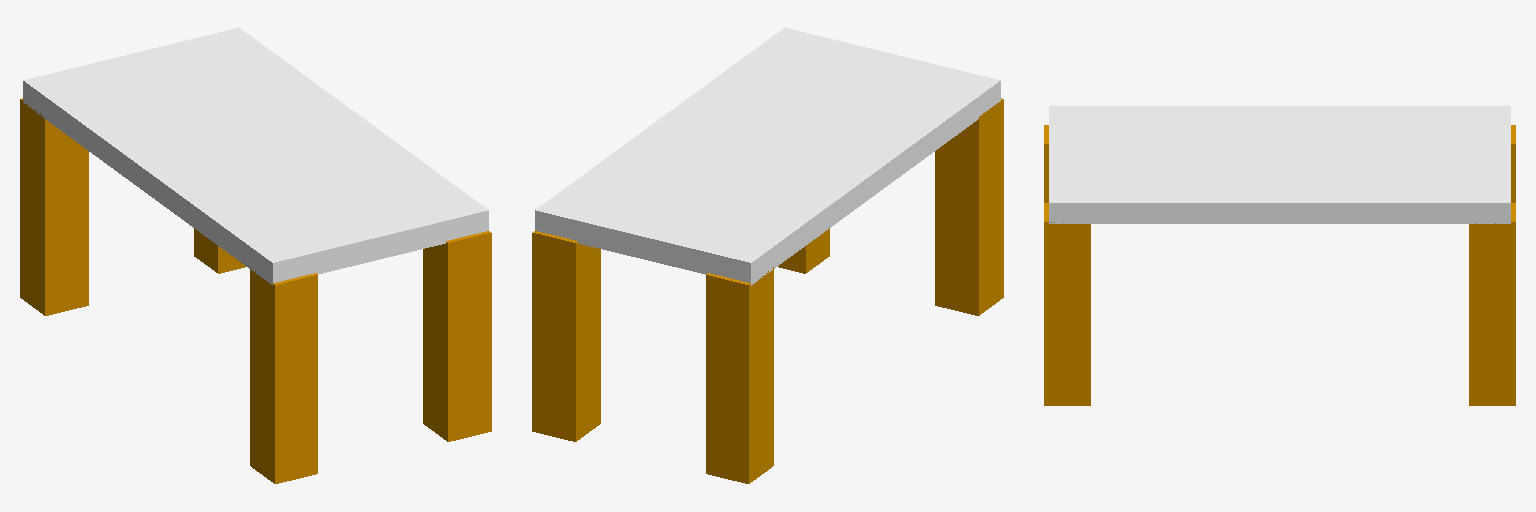
robot.urdf — bench:
<?xml version="0.0" ?>
<robot name="bench">
    <link name="base">
        <contact>
            <lateral_friction value="1.0"/>
        </contact>
        <inertial>
            <origin rpy="0 0 0" xyz="0 0 0"/>
            <mass value="15.0"/>
            <inertia ixx="1" ixy="0" ixz="0" iyy="1" iyz="0" izz="1"/>
        </inertial>
        <visual>
            <origin rpy="0 0 0" xyz="0 0 0.46"/>
            <geometry>
                <mesh filename="wood.obj" scale="0.5 1 0.05"/>
            </geometry>
            <material name="white">
                <color rgba="1 1 1 1"/>
            </material>
        </visual>
        <collision>
            <origin rpy="0 0 0" xyz="0 0 0.46"/>
            <geometry>
                <box size="0.5 1 0.05"/>
            </geometry>
        </collision>
        <visual>
            <origin rpy="0 0 0" xyz="-0.2 -0.46 0.22"/>
            <geometry>
                <mesh filename="wood.obj" scale="0.1 0.1 0.44"/>
            </geometry>
            <material name="framemat0"/>
        </visual>
        <collision>
            <origin rpy="0 0 0" xyz="-0.2 -0.46 0.22"/>
            <geometry>
                <box size="0.1 0.1 0.44"/>
            </geometry>
        </collision>
        <visual>
            <origin rpy="0 0 0" xyz="-0.2 0.46 0.22"/>
            <geometry>
                <mesh filename="wood.obj" scale="0.1 0.1 0.44"/>
            </geometry>
            <material name="framemat0"/>
        </visual>
        <collision>
            <origin rpy="0 0 0" xyz="-0.2 0.46 0.22"/>
            <geometry>
                <box size="0.1 0.1 0.44"/>
            </geometry>
        </collision>
        <visual>
            <origin rpy="0 0 0" xyz="0.2 -0.46 0.22"/>
            <geometry>
                <mesh filename="wood.obj" scale="0.1 0.1 0.44"/>
            </geometry>
            <material name="framemat0"/>
        </visual>
        <collision>
            <origin rpy="0 0 0" xyz="0.2 -0.46 0.22"/>
            <geometry>
                <box size="0.1 0.1 0.44"/>
            </geometry>
        </collision>
        <visual>
            <origin rpy="0 0 0" xyz="0.2 0.46 0.22"/>
            <geometry>
                <mesh filename="wood.obj" scale="0.1 0.1 0.44"/>
            </geometry>
        </visual>
        <collision>
            <origin rpy="0 0 0" xyz="0.2 0.46 0.22"/>
            <geometry>
                <box size="0.1 0.1 0.44"/>
            </geometry>
        </collision>
    </link>
</robot>

--- Render facts (derived) ---
Views: 3 orthographic renders of the robot side by side, from view 1: azimuth 30°, elevation 25°; view 2: azimuth 150°, elevation 25°; view 3: azimuth 270°, elevation 25°.
Model bench with 1 links and 0 joints (none), rooted at base, posed all joints at 0.
Visible links, largest first — view 1: base; view 2: base; view 3: base.
Link boxes in pixels (<box>): base: <box>20,28,491,483</box>; base: <box>532,28,1003,483</box>; base: <box>1044,106,1515,405</box>.
Bounding box of the posed robot: 0.5 × 1.02 × 0.485 m (x, y, z).
5 mesh visuals loaded from 1 distinct referenced files (1 OBJ).